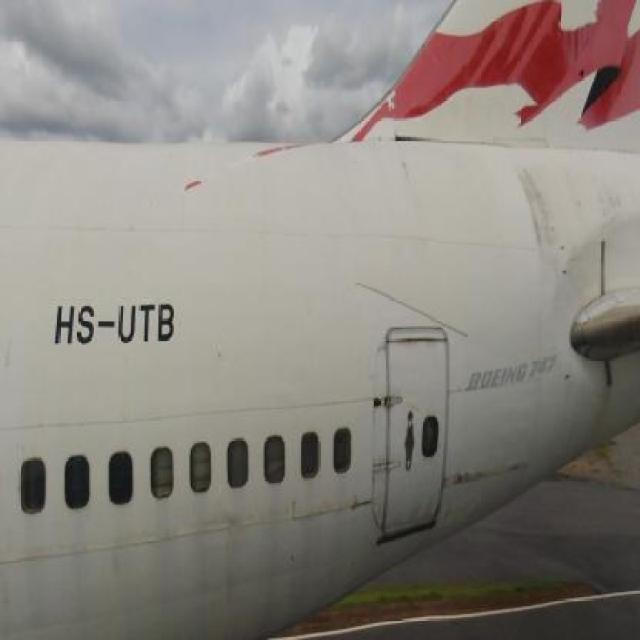Rust: (523, 163, 560, 268), (445, 453, 526, 487), (385, 333, 452, 352)
Scartch: (219, 513, 253, 592), (311, 497, 378, 528)
